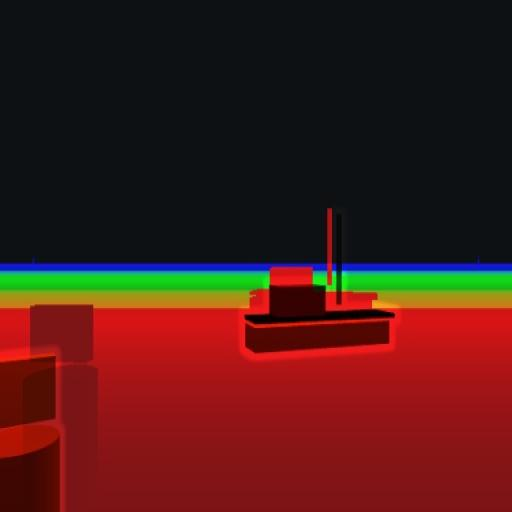vessel: (245, 236, 392, 353)
